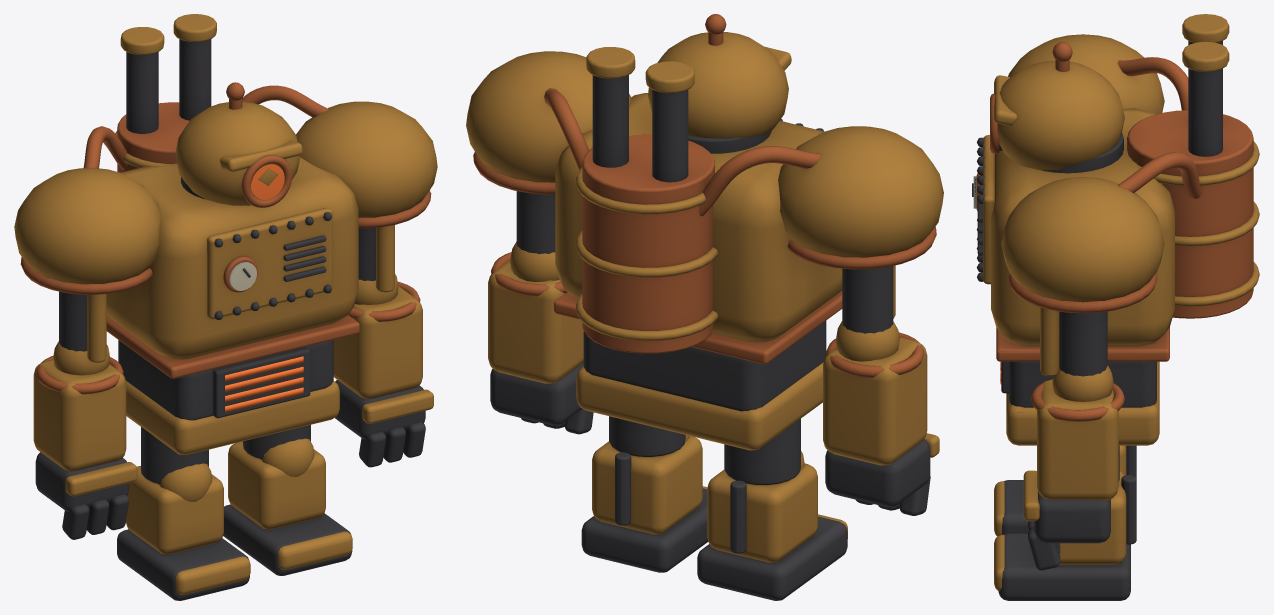
Rendered from sentinel_v10.glb.
3 views of the same model, side by side, from view 1: azimuth 30°, elevation 25°; view 2: azimuth 150°, elevation 25°; view 3: azimuth 270°, elevation 25° (orthographic). The views are drawn at different scales.
Visible parts, largest first — view 1: Body, ArmR_Lower, ArmL_Lower, LegL_Lower, LegR_Lower, ArmR_Upper, LegR_Upper, Eye, ArmL_Upper, LegL_Upper; view 2: Body, ArmR_Lower, LegR_Lower, LegL_Lower, ArmL_Lower, ArmR_Upper, ArmL_Upper, LegR_Upper, LegL_Upper; view 3: Body, ArmL_Lower, LegL_Lower, ArmL_Upper, LegR_Lower.
Boxes of the visible parts, x1,y1,x2,y2 form: Body: (14,14,437,454); ArmR_Lower: (33,356,137,539); ArmL_Lower: (333,281,433,467); LegL_Lower: (223,441,352,575); LegR_Lower: (117,466,250,600); ArmR_Upper: (53,291,109,375); LegR_Upper: (141,427,212,501); Eye: (225,164,303,412); ArmL_Upper: (355,225,398,304); LegL_Upper: (243,425,314,476); Body: (466,14,943,450); ArmR_Lower: (823,332,939,515); LegR_Lower: (697,463,847,600); LegL_Lower: (581,436,708,572); ArmL_Lower: (488,252,593,434); ArmR_Upper: (835,265,899,361); ArmL_Upper: (510,191,559,281); LegR_Upper: (724,418,804,484); LegL_Upper: (609,416,689,456); Body: (972,14,1259,445); ArmL_Lower: (1023,379,1124,570); LegL_Lower: (994,471,1136,600); ArmL_Upper: (1040,307,1113,401); LegR_Lower: (994,445,1136,536).
Bounding box in the file's own units: 4.9 × 5.62 × 2.82.
Materials: 10 (10 with a texture image).
